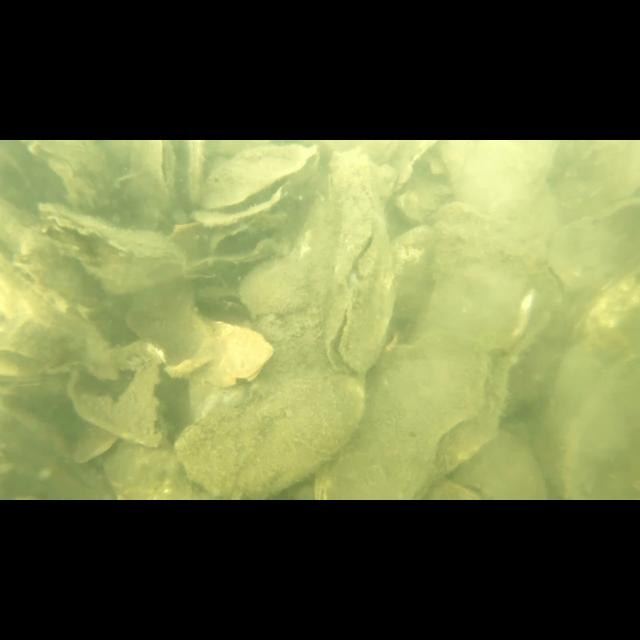Oyster-Closed: (316, 328, 507, 500), (174, 376, 366, 500), (37, 202, 183, 294), (241, 202, 335, 316), (167, 314, 275, 386), (20, 140, 118, 208), (99, 436, 191, 500), (129, 140, 179, 218)
Oyster-Open: (325, 175, 397, 378), (191, 143, 321, 225), (204, 212, 292, 266)
